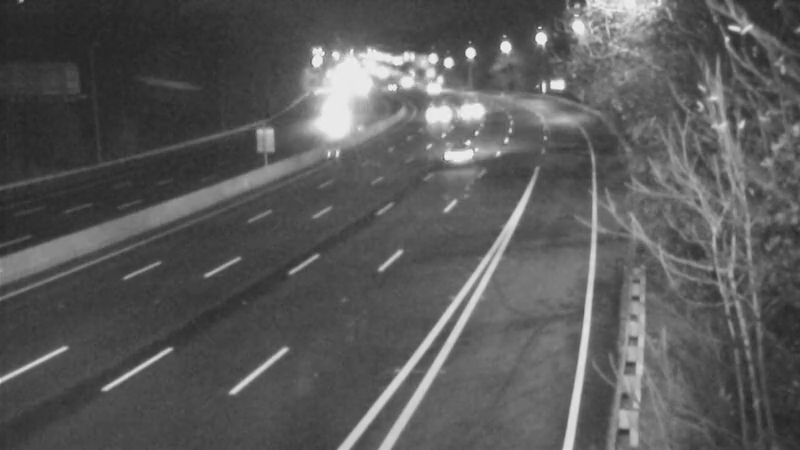vehicle: (419, 113, 499, 193), (412, 64, 462, 114), (446, 86, 496, 136), (407, 92, 457, 142), (307, 94, 357, 144)
